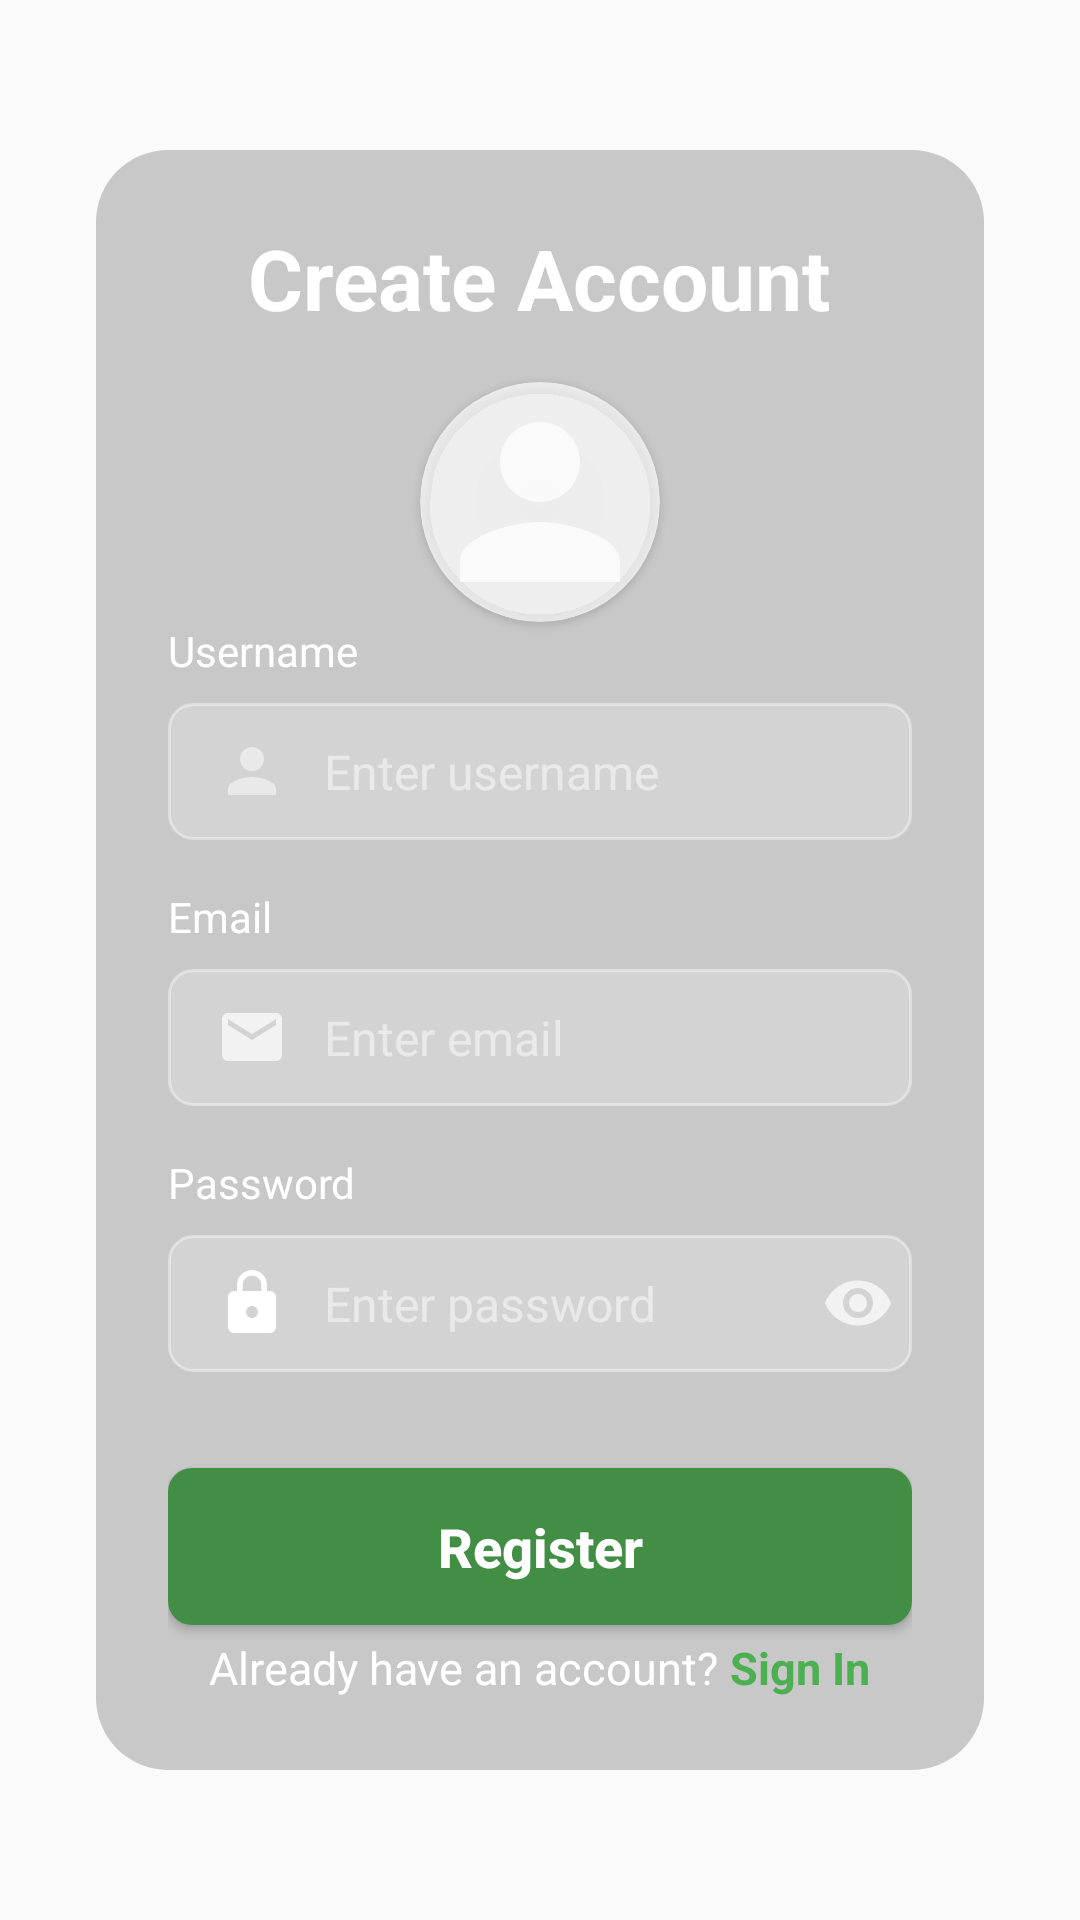

Where to tap for icons on this 1080*1920 app screen, as (x=x, y=y):
Toggle Password Visibility: (x=858, y=1303)
